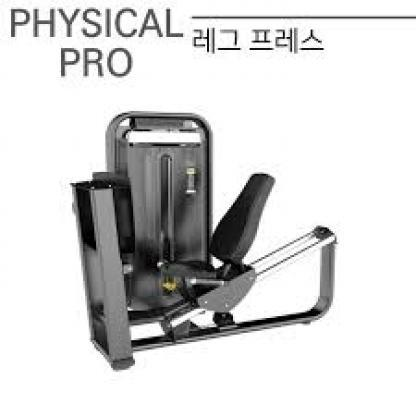leg press: (66, 103, 356, 380)
